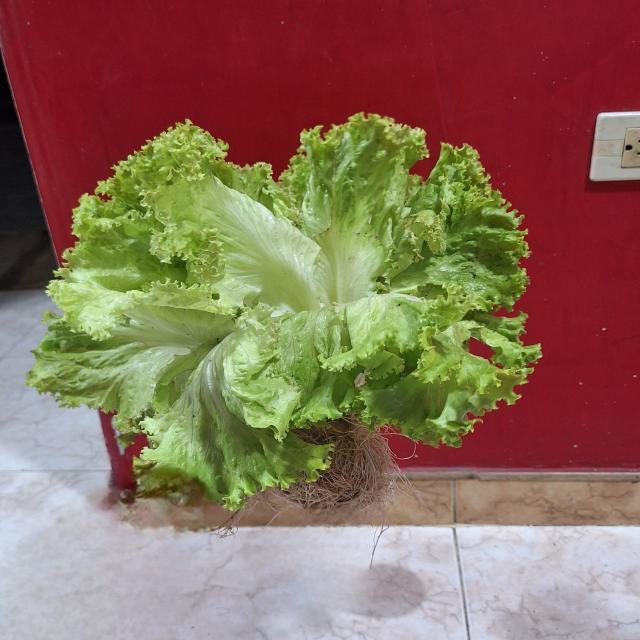lista_para_cosechar: (26, 114, 540, 511)
